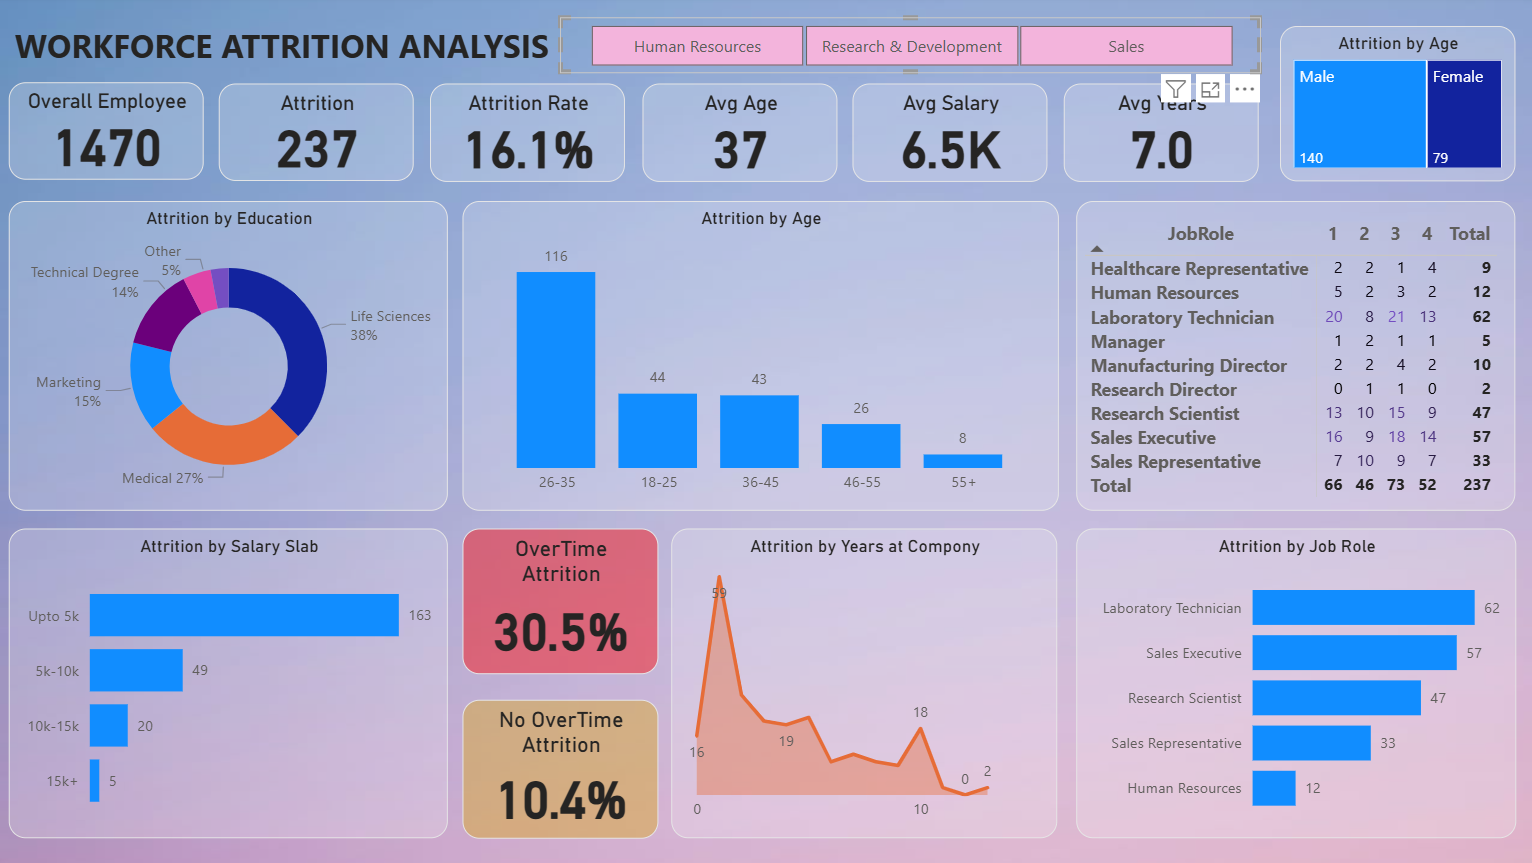

Layout of this report page (visuals, bound fields, positions):
{"tool":"powerbi","page":{"name":"Page 1","canvas":[1280,720],"ordinal":0},"visuals":[{"type":"card","title":"Overall Employee","fields":{"Values":["Count(HR_Analytics.EmpID)"]},"box":[15.8,71.6,161.9,81],"z":0},{"type":"card","title":"Attrition","fields":{"Values":["Sum(HR_Analytics.Attrition Count)"]},"box":[190.1,72.9,161.9,81],"z":1000},{"type":"card","title":"Attrition Rate","fields":{"Values":["HR_Analytics.AttritionRate"]},"box":[365,72.7,161.9,81.2],"z":2000},{"type":"card","title":"Avg Age","fields":{"Values":["Avg(HR_Analytics.Age)"]},"box":[540.6,72.7,161.9,81.2],"z":3000},{"type":"card","title":"Avg Salary","fields":{"Values":["Avg(HR_Analytics.MonthlyIncome)"]},"box":[715,72.7,161.9,81.2],"z":4000},{"type":"card","title":"Avg Years","fields":{"Values":["Avg(HR_Analytics.YearsAtCompany)"]},"box":[890,72.7,161.9,81.2],"z":5000},{"type":"donutChart","title":"Attrition by Education","fields":{"Category":["HR_Analytics.EducationField"],"Y":["Sum(HR_Analytics.Attrition Count)"]},"box":[15.7,170,364.3,257.1],"z":6000},{"type":"columnChart","title":"Attrition by Age","fields":{"Category":["HR_Analytics.AgeGroup"],"Y":["Sum(HR_Analytics.Attrition Count)"]},"box":[391.4,170,494.3,257.1],"z":7000},{"type":"pivotTable","fields":{"Rows":["HR_Analytics.JobRole"],"Columns":["HR_Analytics.JobSatisfaction"],"Values":["Sum(HR_Analytics.Attrition Count)"]},"box":[900.2,170.2,363.6,256.6],"z":8000},{"type":"barChart","title":"Attrition by Salary Slab","fields":{"Category":["HR_Analytics.SalarySlab"],"Y":["Sum(HR_Analytics.Attrition Count)"]},"box":[15.7,441.4,364.3,257.1],"z":9000},{"type":"clusteredBarChart","title":"Attrition by Job Role","fields":{"Category":["HR_Analytics.JobRole"],"Y":["Sum(HR_Analytics.Attrition Count)"]},"box":[900.2,441.9,365,256.6],"z":10000},{"type":"areaChart","title":"Attrition by Years at Compony","fields":{"Category":["HR_Analytics.YearsAtCompany"],"Y":["Sum(HR_Analytics.Attrition Count)"]},"box":[565.1,441.8,320.1,256.7],"z":11000},{"type":"treemap","title":"Attrition by Age","fields":{"Group":["HR_Analytics.Gender"],"Values":["Sum(HR_Analytics.Attrition Count)"]},"box":[1069,24.7,194.9,129],"z":12000},{"type":"slicer","fields":{"Values":["HR_Analytics.Department"]},"box":[472.9,17.1,581.4,47.1],"z":13000},{"type":"textbox","box":[15.7,17.1,464.3,71.4],"z":14000},{"type":"card","title":"No OverTime Attrition","fields":{"Values":["HR_Analytics.Attrition Rate (OverTime No)"]},"box":[391.5,583.1,162.3,115.4],"z":15000},{"type":"card","title":"OverTime  Attrition","fields":{"Values":["HR_Analytics.Attrition Rate (OverTime Yes)"]},"box":[391.5,441.5,162.3,120.8],"z":16000}]}

Visuals, with their boxes in screenshot pixels (x1, y1, x2, y2), scaled from the page's 1280x720 canvas onto the 1532x863 screenshot:
"Overall Employee" card: 19:86:213:183
"Attrition" card: 228:87:421:184
"Attrition Rate" card: 437:87:631:184
"Avg Age" card: 647:87:841:184
"Avg Salary" card: 856:87:1050:184
"Avg Years" card: 1065:87:1259:184
"Attrition by Education" donutChart: 19:204:455:512
"Attrition by Age" columnChart: 468:204:1060:512
pivotTable - HR_Analytics.JobRole x HR_Analytics.JobSatisfaction: 1077:204:1513:512
"Attrition by Salary Slab" barChart: 19:529:455:837
"Attrition by Job Role" clusteredBarChart: 1077:530:1514:837
"Attrition by Years at Compony" areaChart: 676:530:1059:837
"Attrition by Age" treemap: 1279:30:1513:184
slicer - HR_Analytics.Department: 566:20:1262:77
textbox: 19:20:574:106
"No OverTime Attrition" card: 469:699:663:837
"OverTime  Attrition" card: 469:529:663:674
